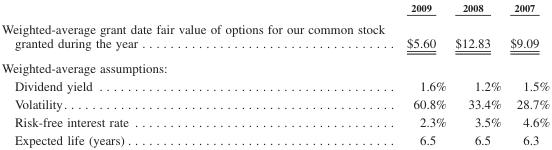table: (0, 1, 549, 146)
table column: (0, 1, 395, 146), (395, 1, 450, 146), (450, 1, 505, 146), (505, 1, 549, 146)
table column header: (0, 1, 549, 17)
table projected row header: (0, 54, 549, 76)
table row: (0, 17, 549, 54), (0, 54, 549, 76), (0, 76, 549, 94), (0, 94, 549, 112), (0, 112, 549, 130), (0, 1, 549, 17), (0, 130, 549, 146)
